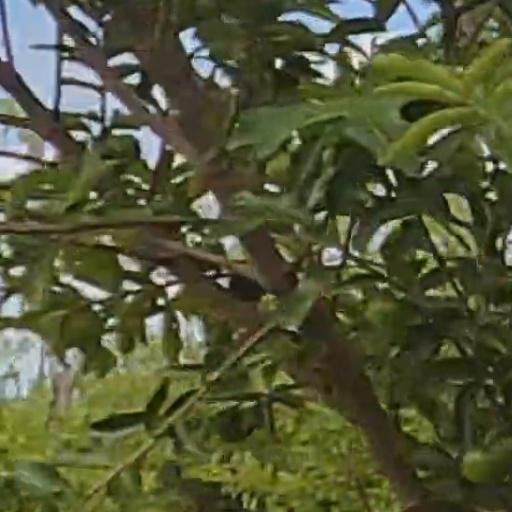acerola: (461, 449, 508, 482)
